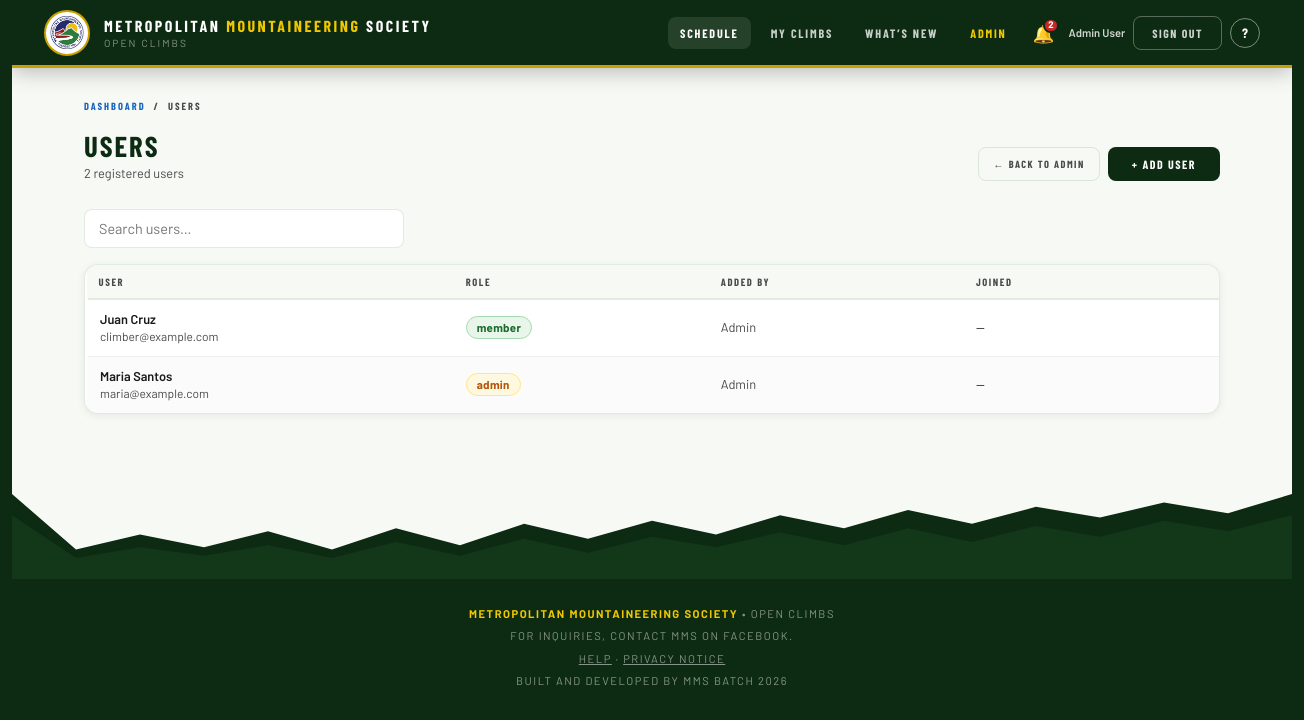
Test: Admin UsersManage › filters users by search input
Expected: the button "Juan Cruz" is shown, [100, 310, 156, 328]
Type "Maria" into the search field with placeholder "Search users…".
click(244, 228); type("Maria")  # box [84, 209, 404, 248]
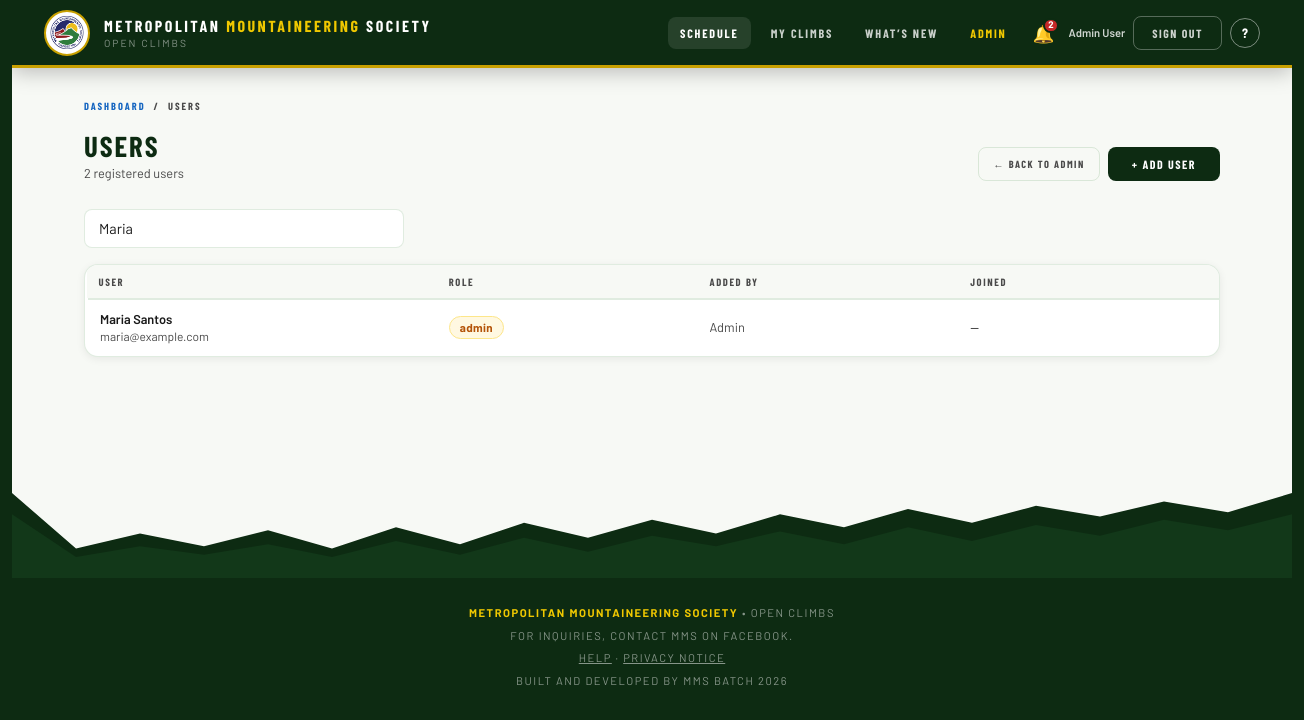
Expected: the button "Maria Santos" is shown, [100, 310, 172, 328]
Result: the button "Juan Cruz" is gone
